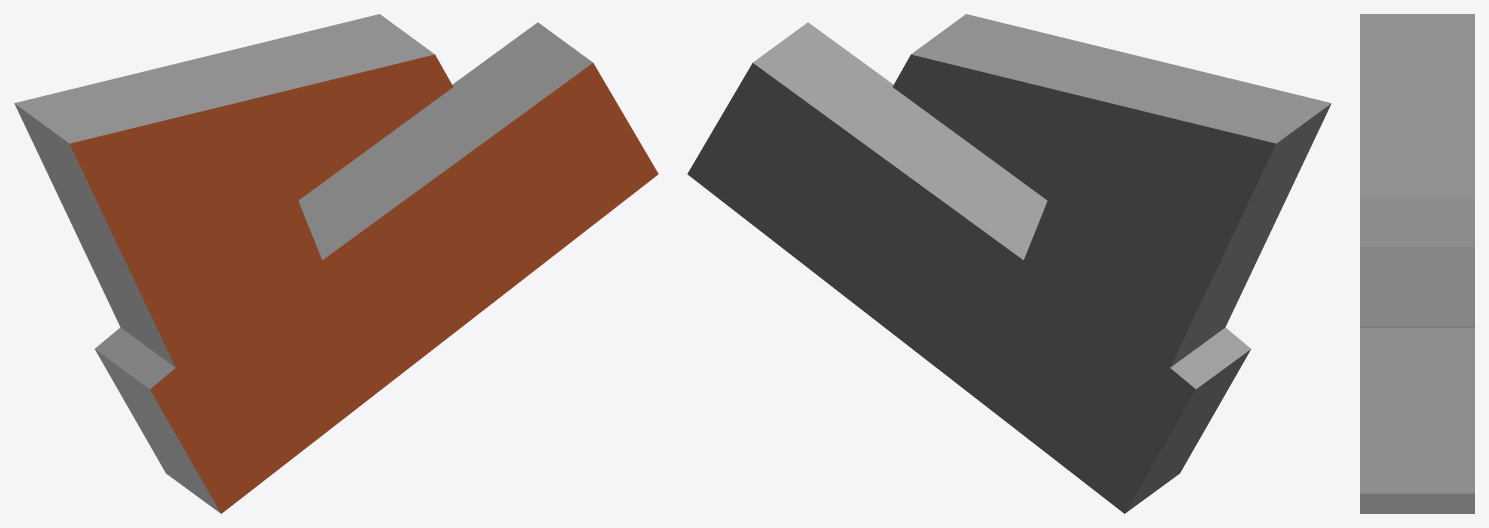
The model's file is construction_3876_assumed_A_Casa_h6m.obj.
3 renders of one model, left to right at view 1: azimuth 30°, elevation 25°; view 2: azimuth 150°, elevation 25°; view 3: azimuth 270°, elevation 25°, orthographic. The views are drawn at different scales.
Parts seen in each view (by area): view 1: construction_3876_assumed_A_Casa; view 2: construction_3876_assumed_A_Casa; view 3: construction_3876_assumed_A_Casa.
Part boxes in pixels (bbox=[...]): construction_3876_assumed_A_Casa: bbox=[14, 14, 658, 513]; construction_3876_assumed_A_Casa: bbox=[687, 14, 1331, 513]; construction_3876_assumed_A_Casa: bbox=[1360, 14, 1474, 513].
Bounding box in the file's own units: 36.89 × 24.37 × 6.
